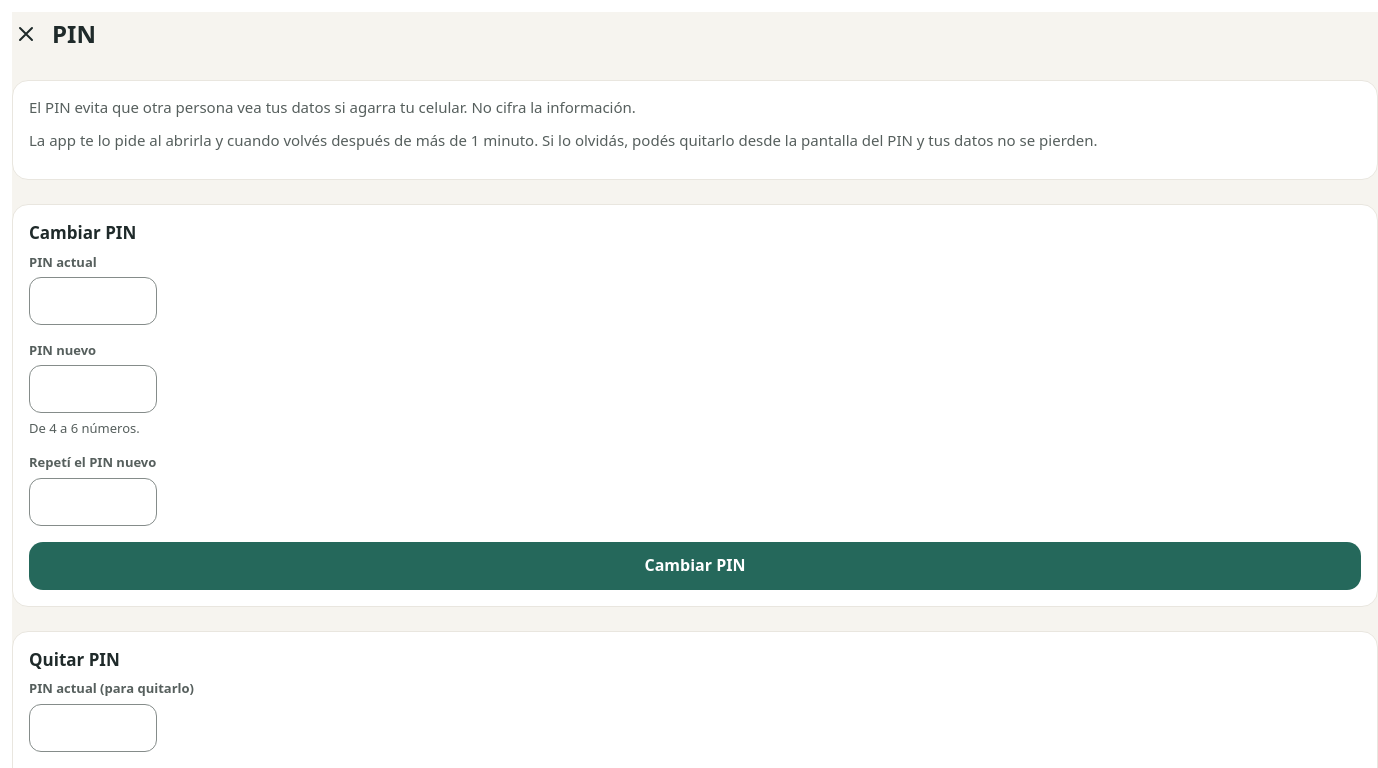
Test: sin PIN › los campos solo aceptan números y hasta 6
The width and height of the screenshot is (1378, 768).
Type "12ab34567" into the password field labelled "PIN nuevo" at x=93, y=389, box [29,365,157,413]
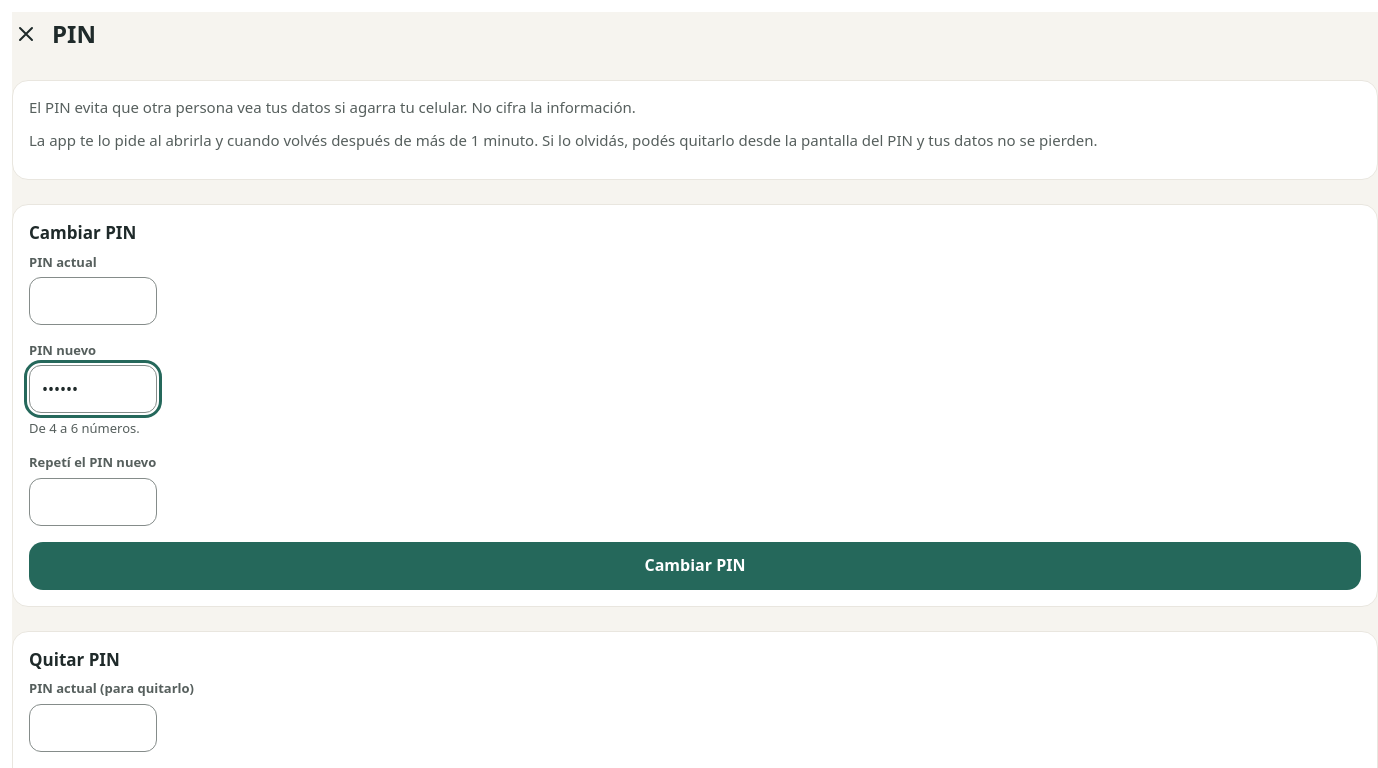
Now the password field labelled "PIN nuevo" holds "123456", box [29,365,157,413]
